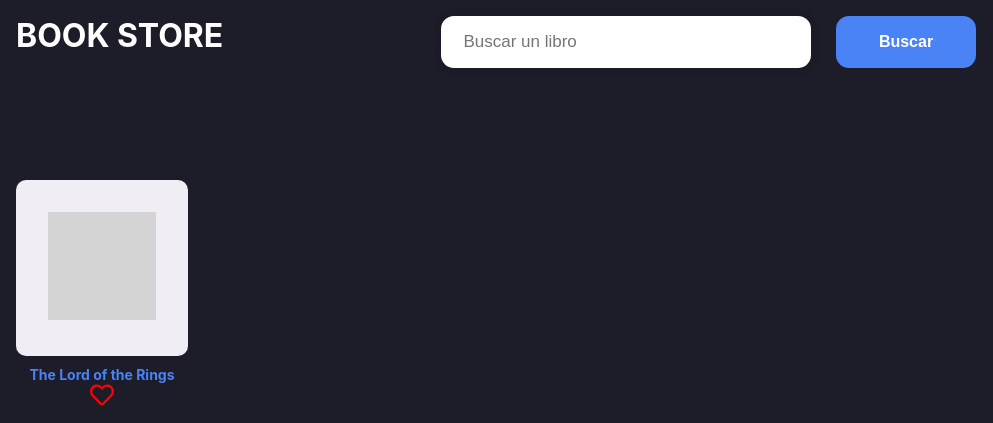
Test: should render a book you are viewing on the Book Store
expect the heading "BOOK STORE" is shown: met, box [16,16,223,55]
expect the text "The Lord of the Rings" is shown: met, box [29,366,174,383]
Type "the hobbit" into the field with placeholder "Buscar un libro" at [626, 42], box [441,16,811,68]
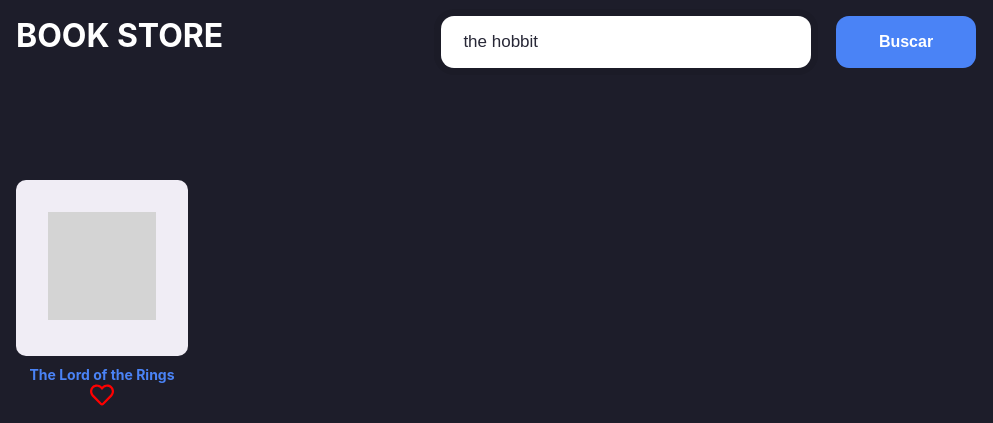
Click the button "Buscar" at [906, 42], box [836,16,976,68]
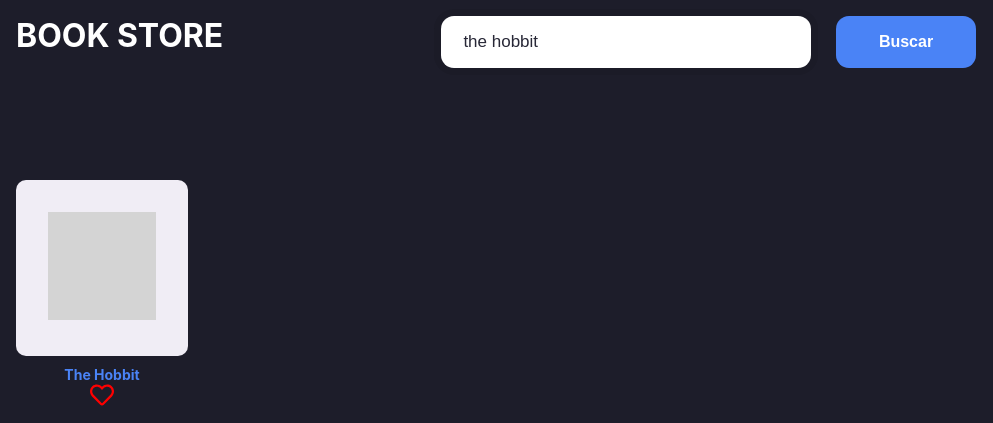
expect the text "The Hobbit" is shown: met, box [64,366,140,383]
